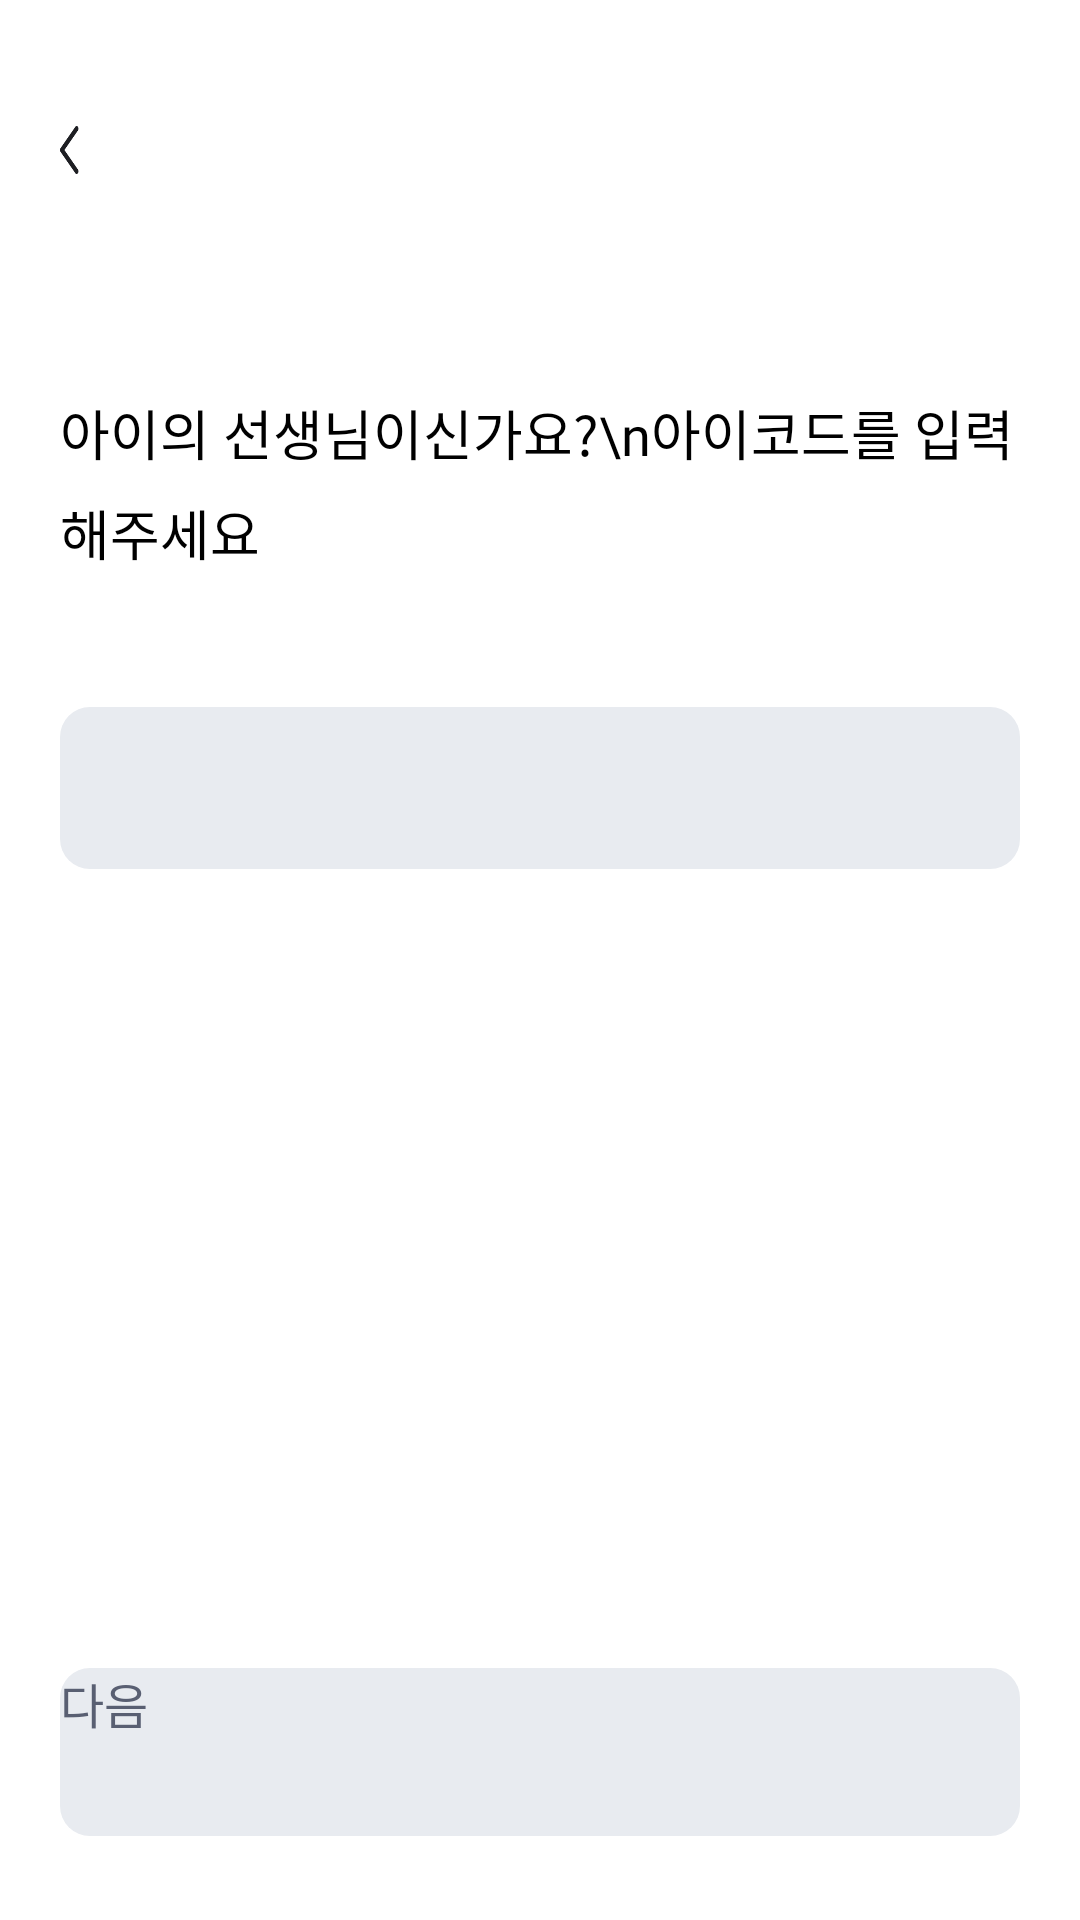

Screen size 1080px×1920px. Icon name, then its center in pixels as point (x, y):
back: point (69, 150)
